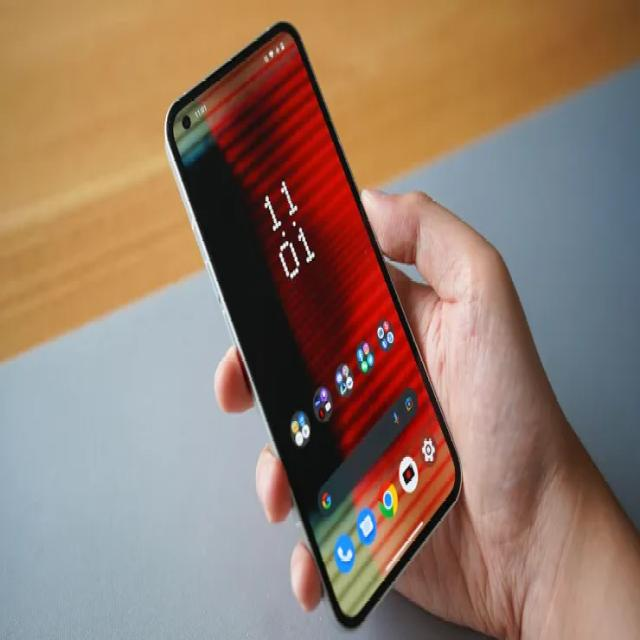phone: (152, 7, 471, 639)
